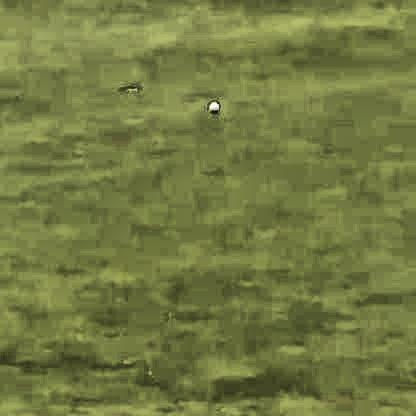golfball: (205, 98, 217, 112)
